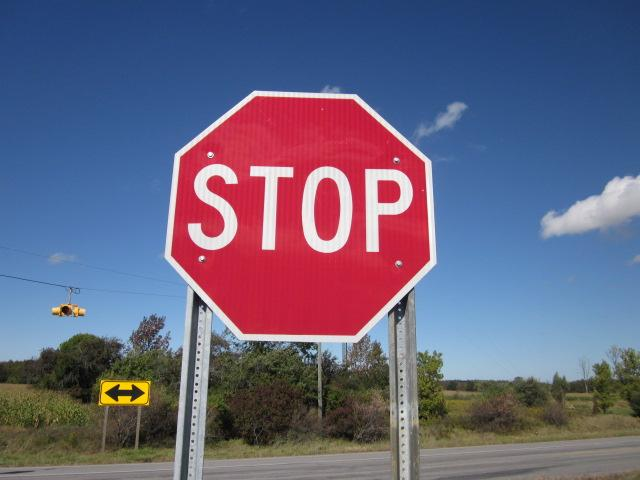stop: (167, 90, 440, 344)
warning: (99, 380, 154, 408)
